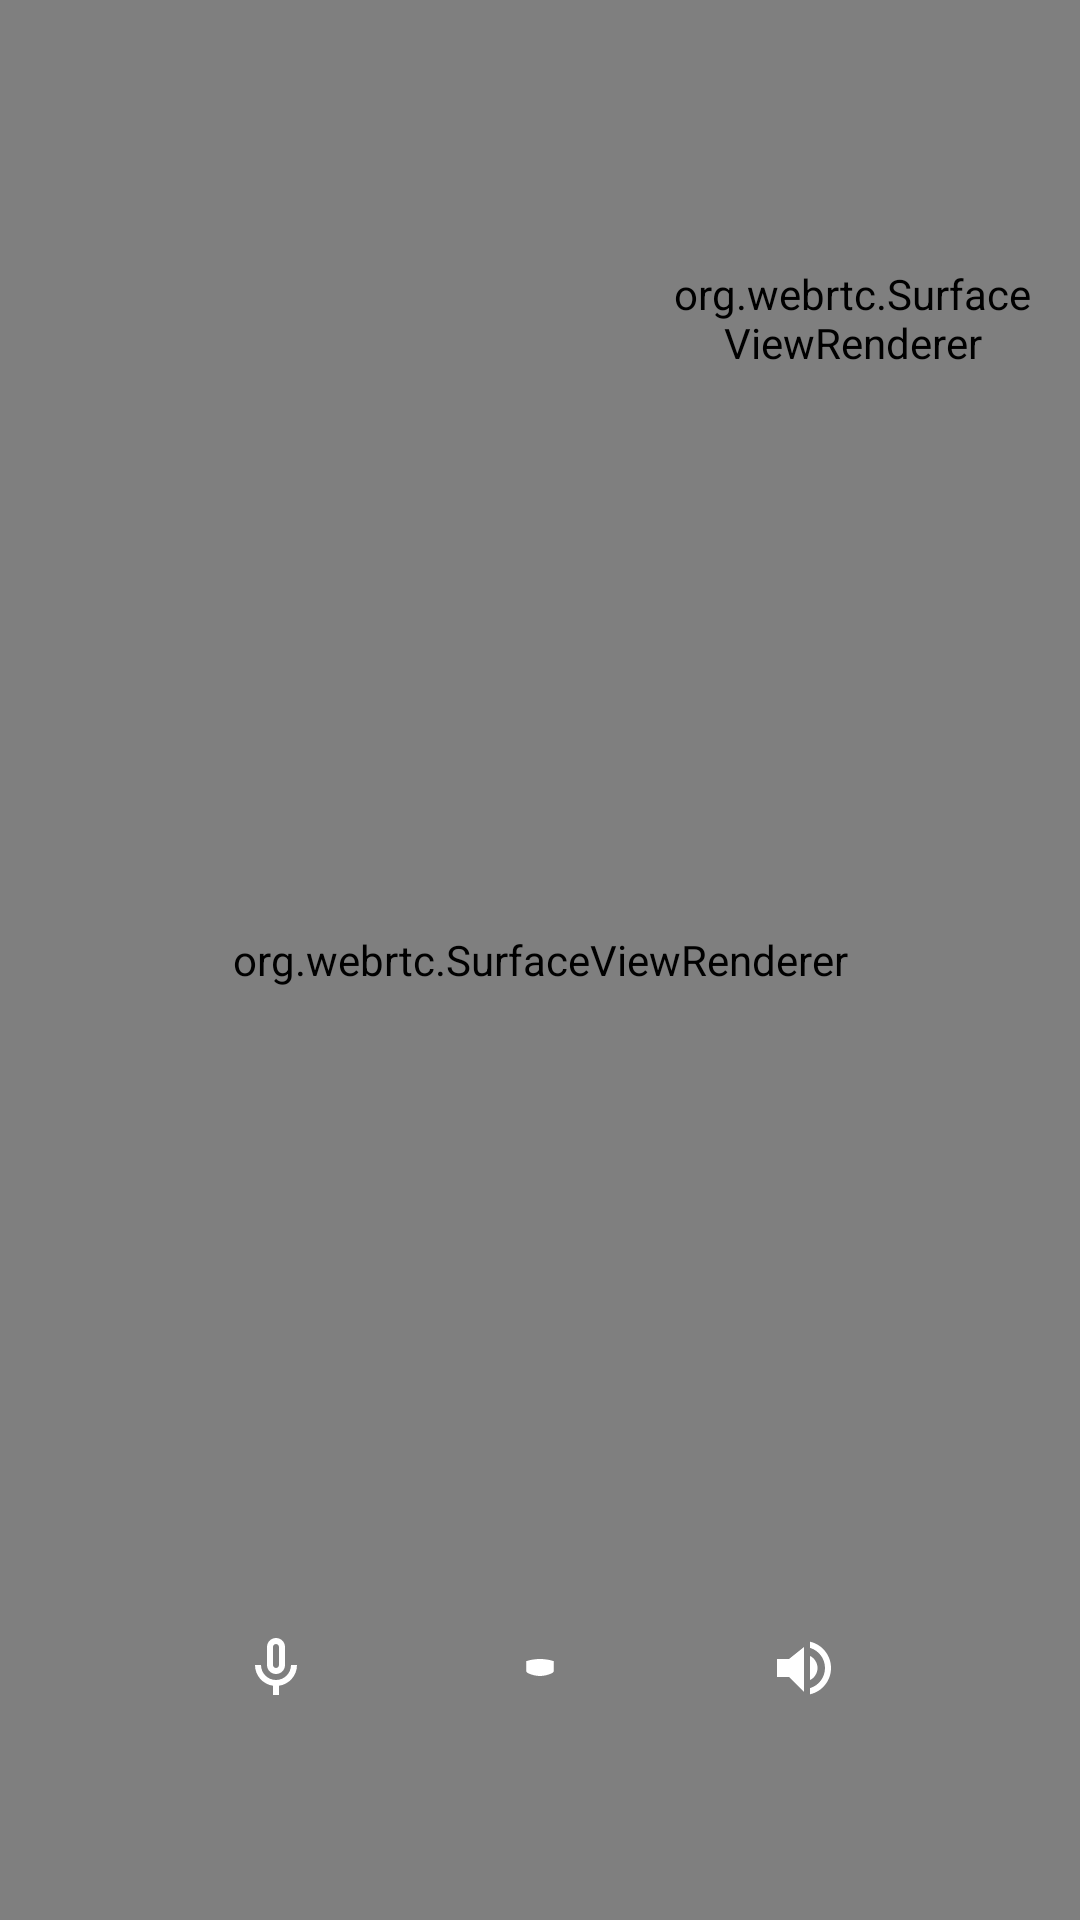

Icons on this 1080x1920 Android screen, each with the point to tap as (x,y):
mic: (276,1666)
volume up: (804,1668)
